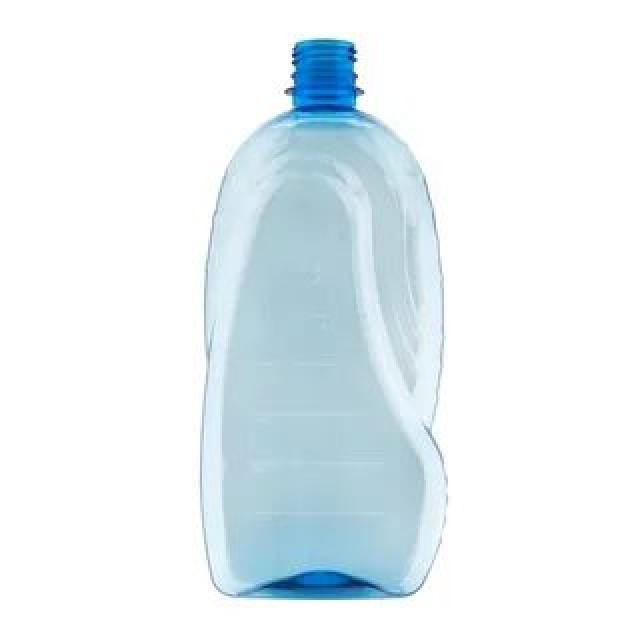blue: (198, 33, 448, 605)
